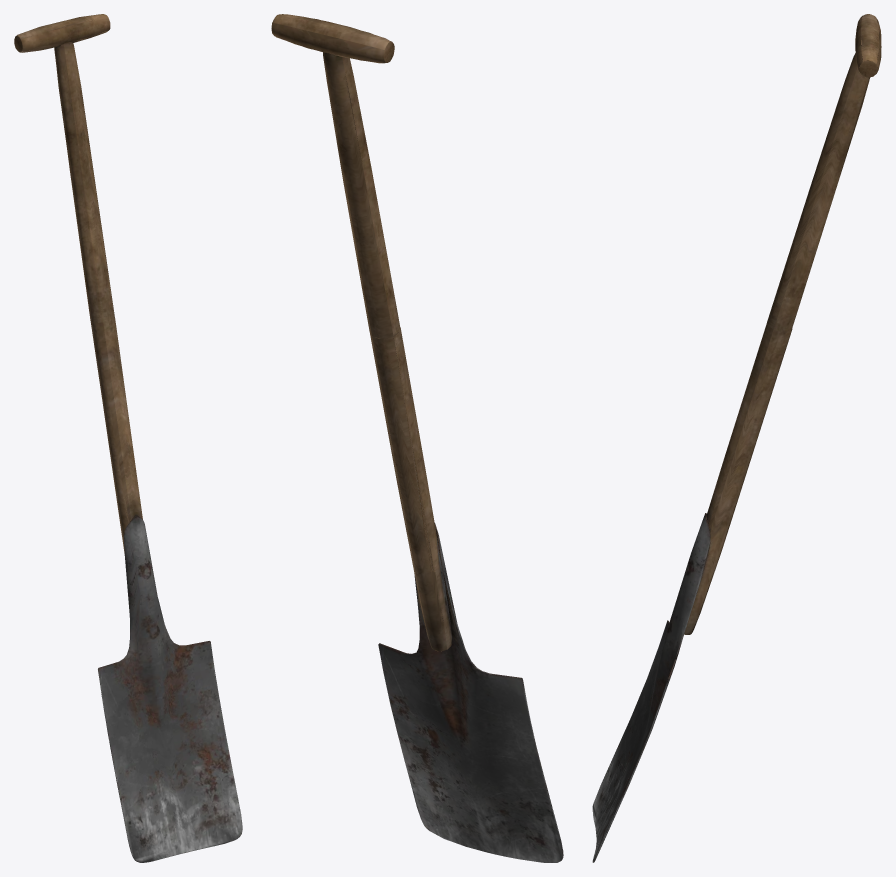
File: shovel-low.glb
The picture shows the model from 3 angles, left to right: view 1: azimuth 30°, elevation 25°; view 2: azimuth 150°, elevation 25°; view 3: azimuth 270°, elevation 25°; orthographic projection. The views are drawn at different scales.
Visible parts, largest first — view 1: shovel-low; view 2: shovel-low; view 3: shovel-low.
Part boxes in pixels (x1,y1,x2,y2): shovel-low: (14,14,242,862); shovel-low: (271,14,563,862); shovel-low: (592,14,881,862).
Bounding box in the file's own units: 0.1682 × 1.05 × 0.3419.
1 material, 1 textured.
